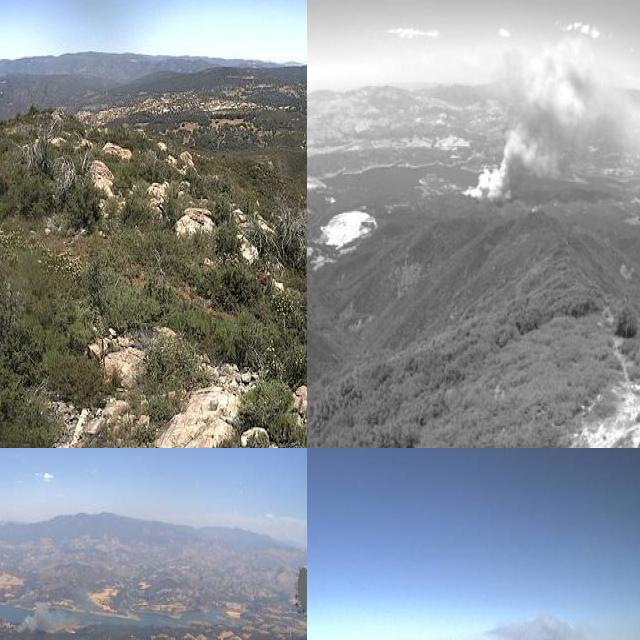smoke: (459, 13, 640, 207), (484, 609, 593, 640), (10, 594, 74, 637)
